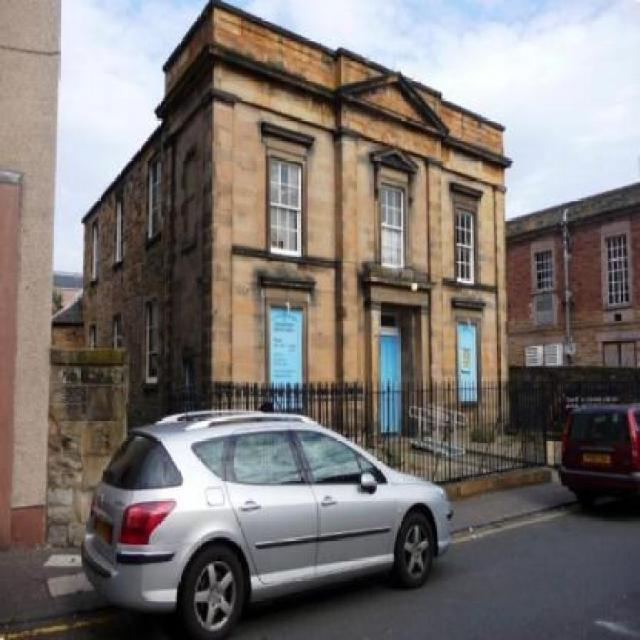License-Plates: (94, 514, 113, 547), (583, 453, 611, 464)
